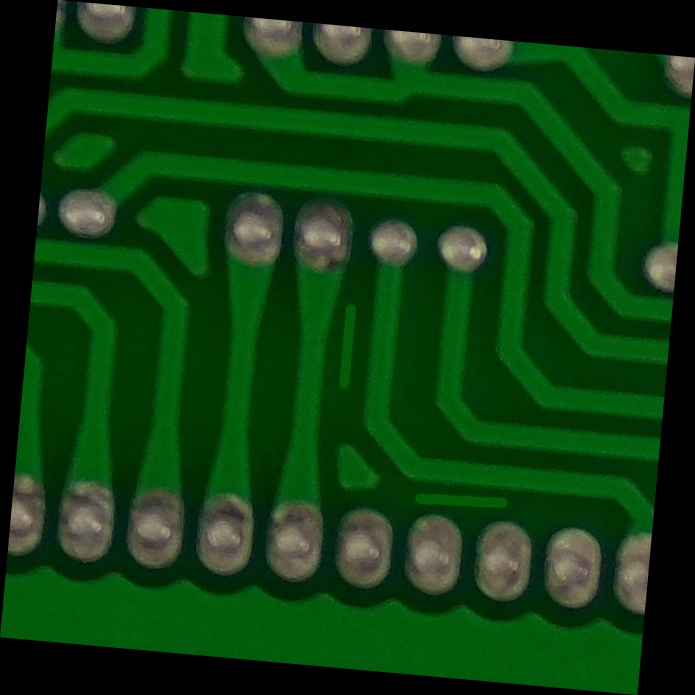spurious_copper: (320, 288, 376, 408)
